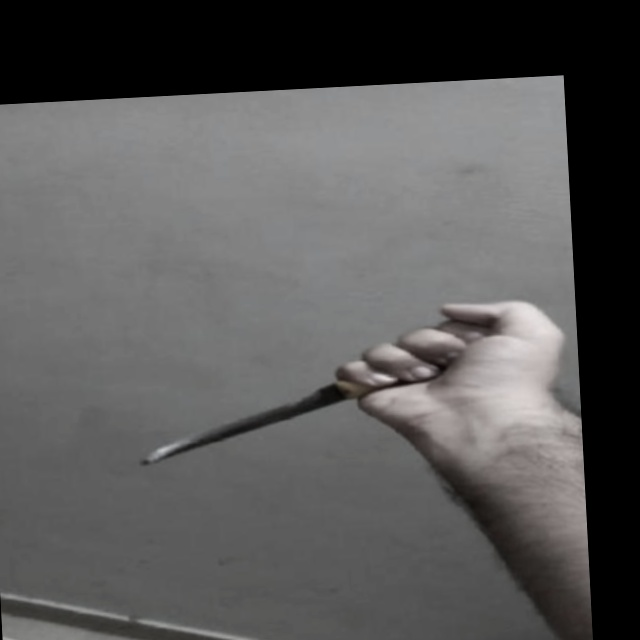Sharp-Object: (139, 377, 374, 467)
